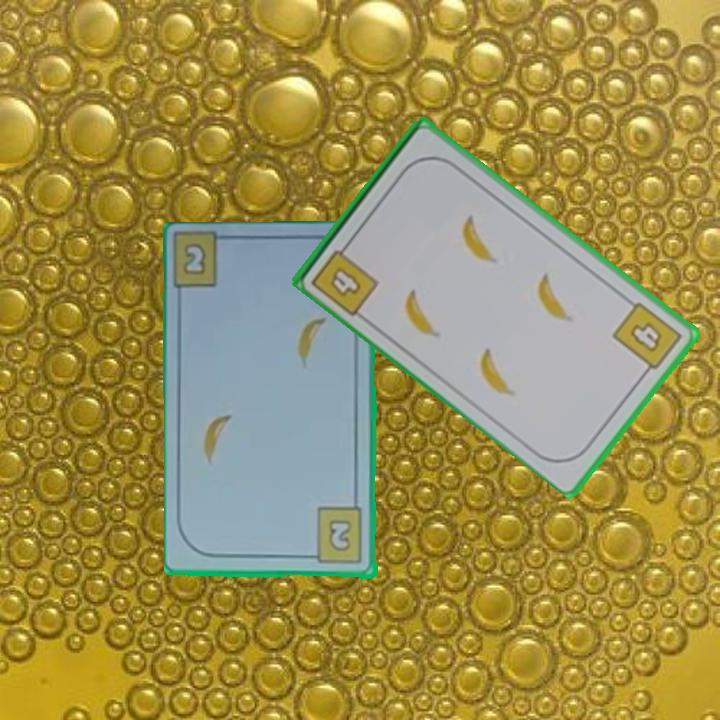2b: (304, 505, 366, 567), (180, 239, 209, 278)
4b: (608, 298, 685, 379), (307, 236, 382, 319)
